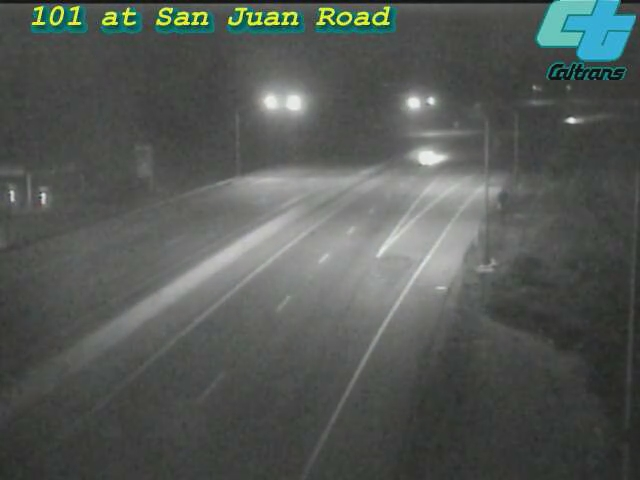vehicle: (547, 95, 597, 145), (406, 133, 456, 183)
